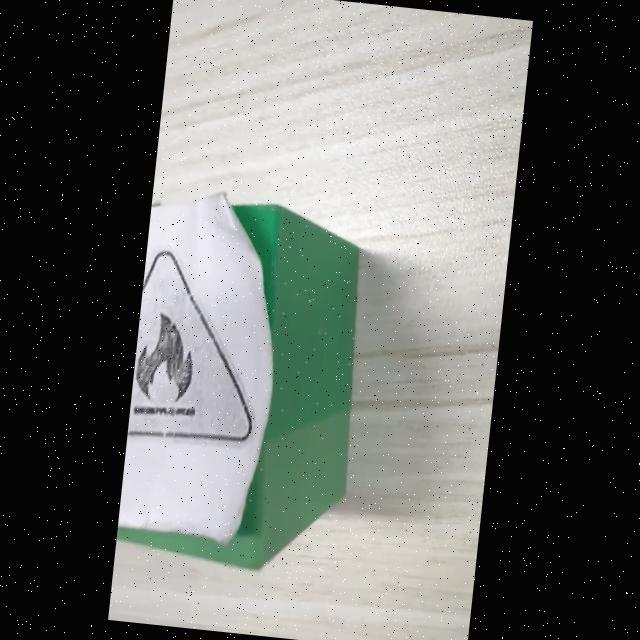Fire: (127, 251, 252, 441)
